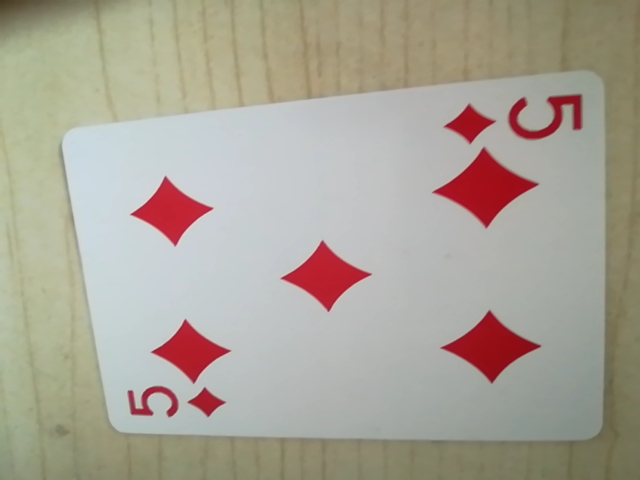fk 5: (443, 86, 585, 151), (119, 378, 231, 430)
